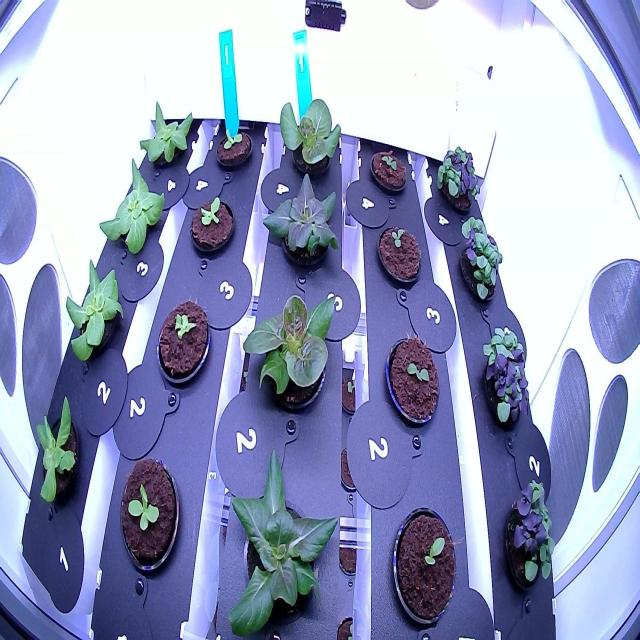germination: (384, 497, 462, 636), (379, 328, 444, 436), (373, 216, 427, 290), (210, 114, 256, 177)
young: (211, 438, 345, 640), (239, 276, 342, 420), (259, 156, 344, 274), (94, 149, 170, 280), (114, 450, 186, 586), (58, 240, 128, 375), (28, 387, 88, 520), (272, 87, 346, 187), (152, 290, 215, 397), (132, 88, 198, 179), (186, 186, 239, 268), (366, 143, 411, 201)
